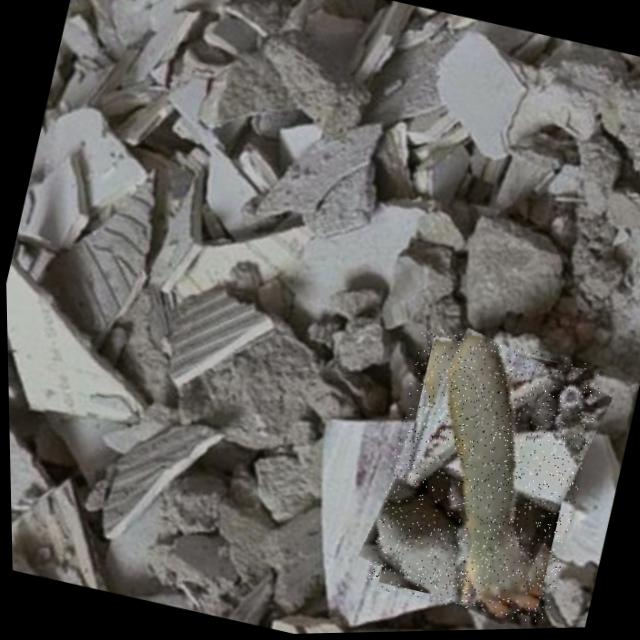Person in Rubble: (357, 323, 608, 631)
